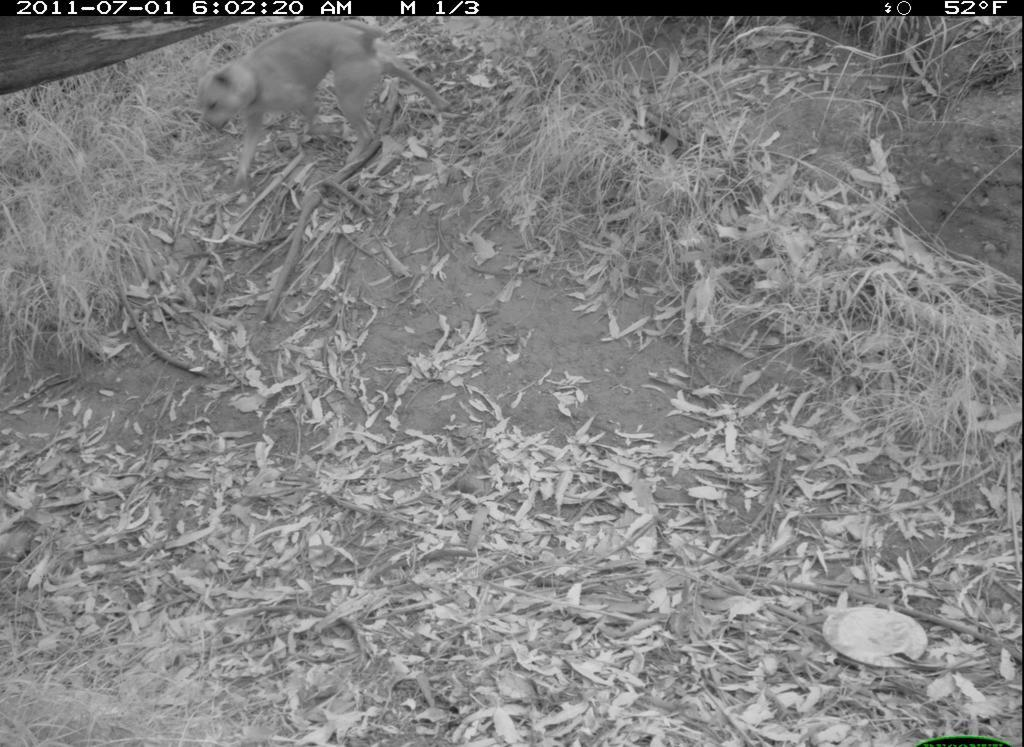dog: (187, 16, 461, 193)
